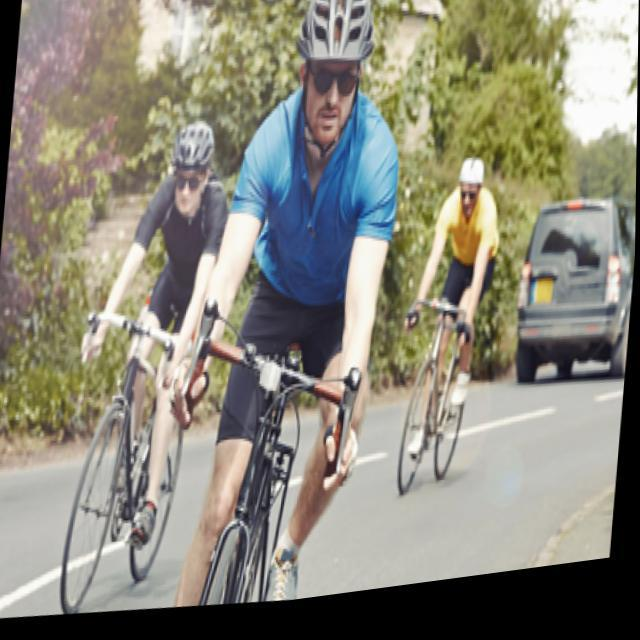Helmet: (288, 0, 381, 156)
